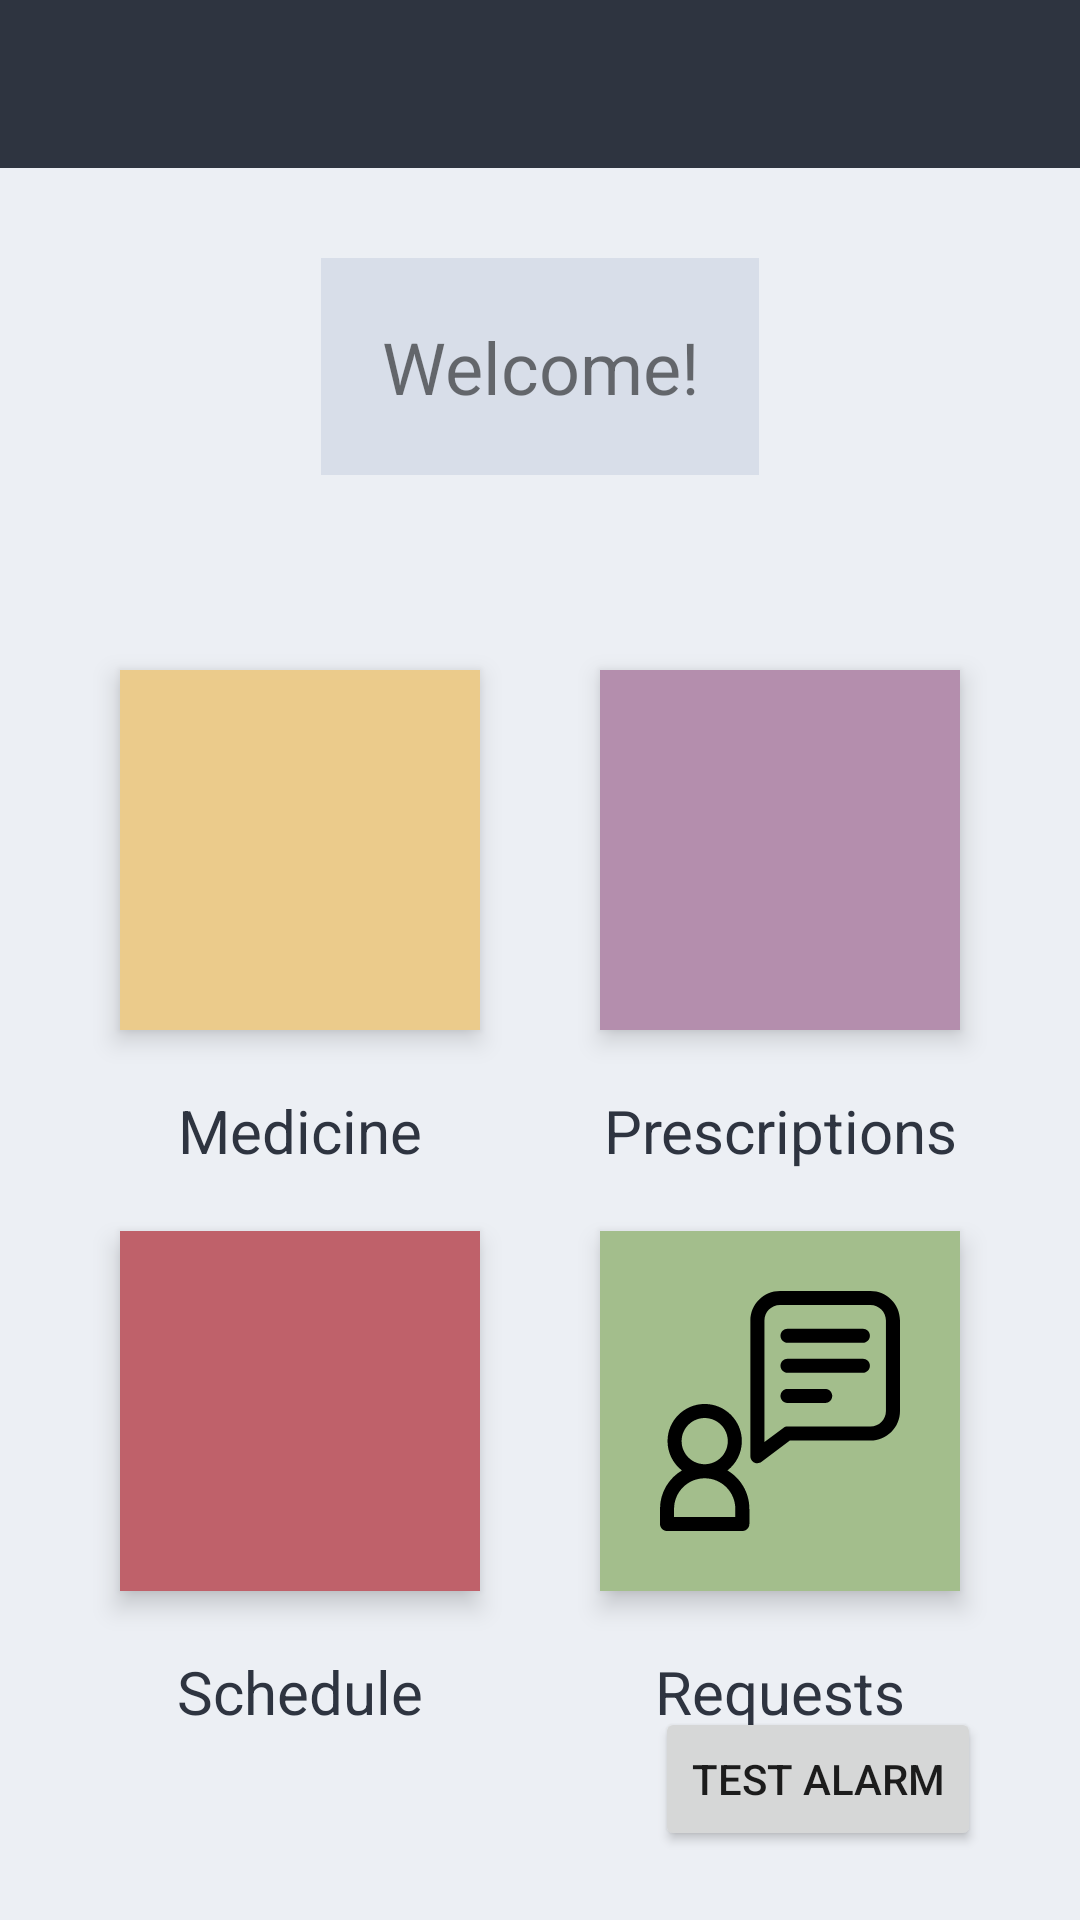

Point at icon controls on the screen. Image size 1080x1920, points as (x=x, y=y).
interview: (x=780, y=1411)
